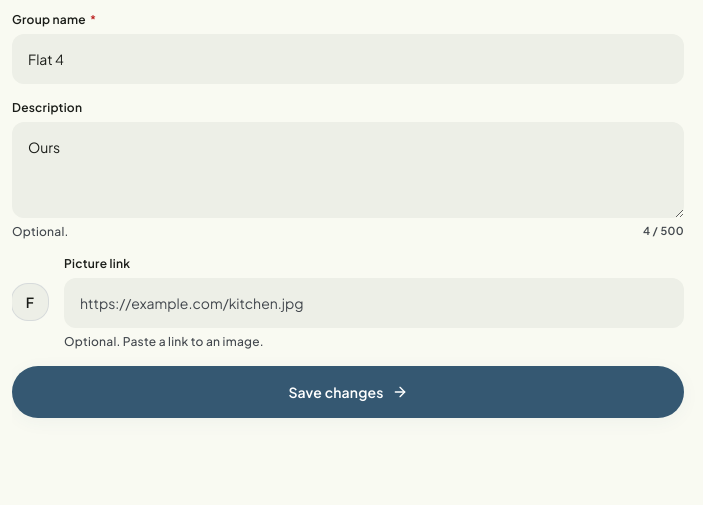
Test: EditGroupForm › takes the success back once the fields are edited again
Click the button "Save changes". click: (348, 392)
box: x1=12 y1=366 x2=684 y2=418
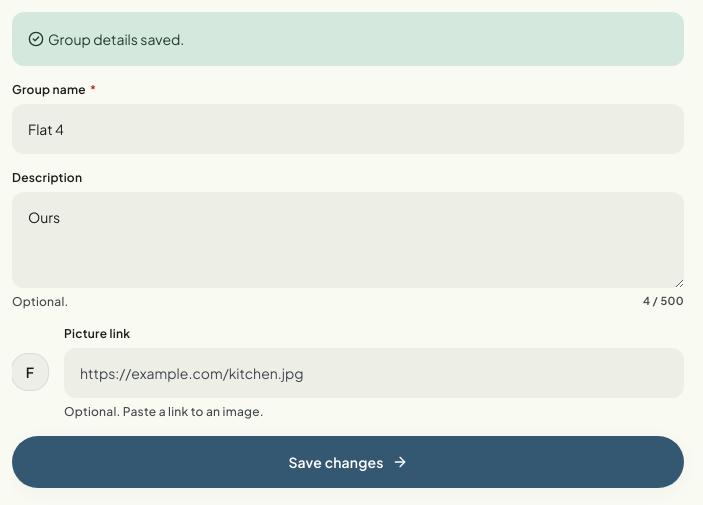
Check: the text "Group details saved." is shown, box x1=12 y1=12 x2=684 y2=66
Type "!" into the field labelled "Group name". click: (348, 129)
box: x1=12 y1=104 x2=684 y2=154
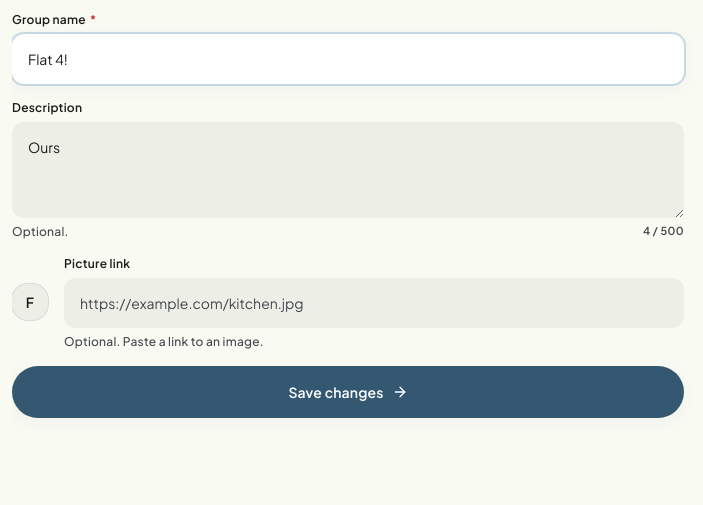
Check: the text "Group details saved." is gone
